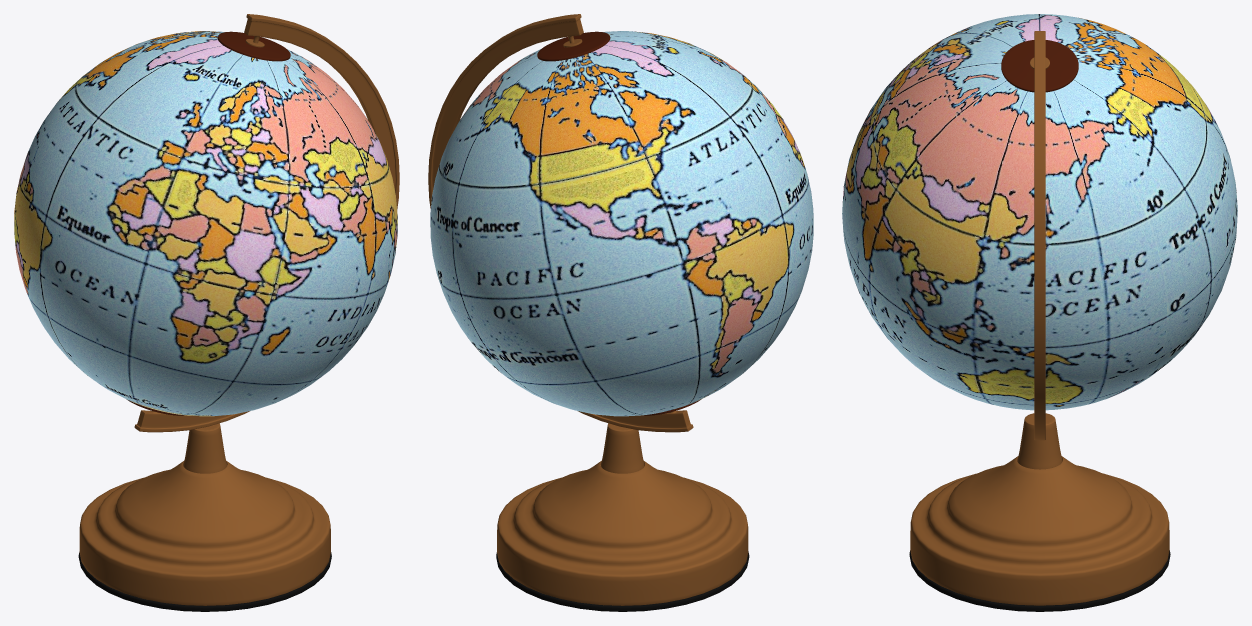
Rendered from Globe.fbx.
The picture shows the model from 3 angles, left to right: view 1: azimuth 30°, elevation 25°; view 2: azimuth 150°, elevation 25°; view 3: azimuth 270°, elevation 25°; orthographic projection. The views are drawn at different scales.
Visible parts, largest first — view 1: Globe02; view 2: Globe02; view 3: Globe02.
Boxes of the visible parts, x1,y1,x2,y2 form: Globe02: [14, 14, 399, 611]; Globe02: [428, 14, 813, 611]; Globe02: [842, 14, 1237, 611].
Bounding box in the file's own units: 178 × 253 × 165.
